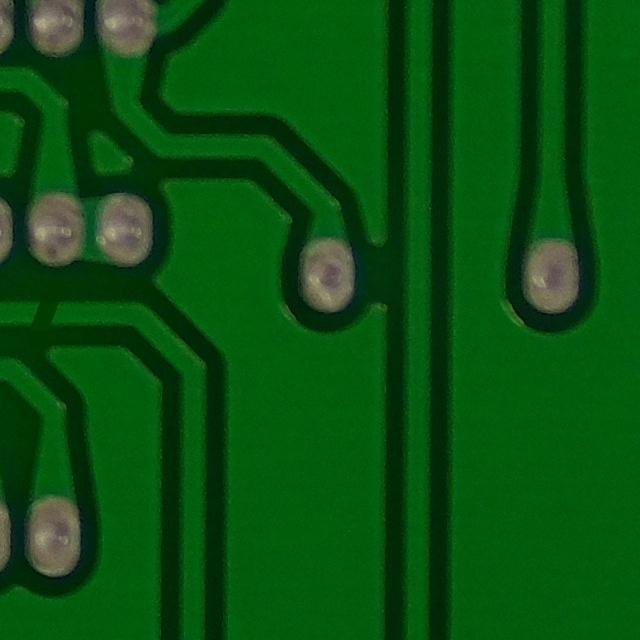open_circuit: (24, 287, 74, 344)
